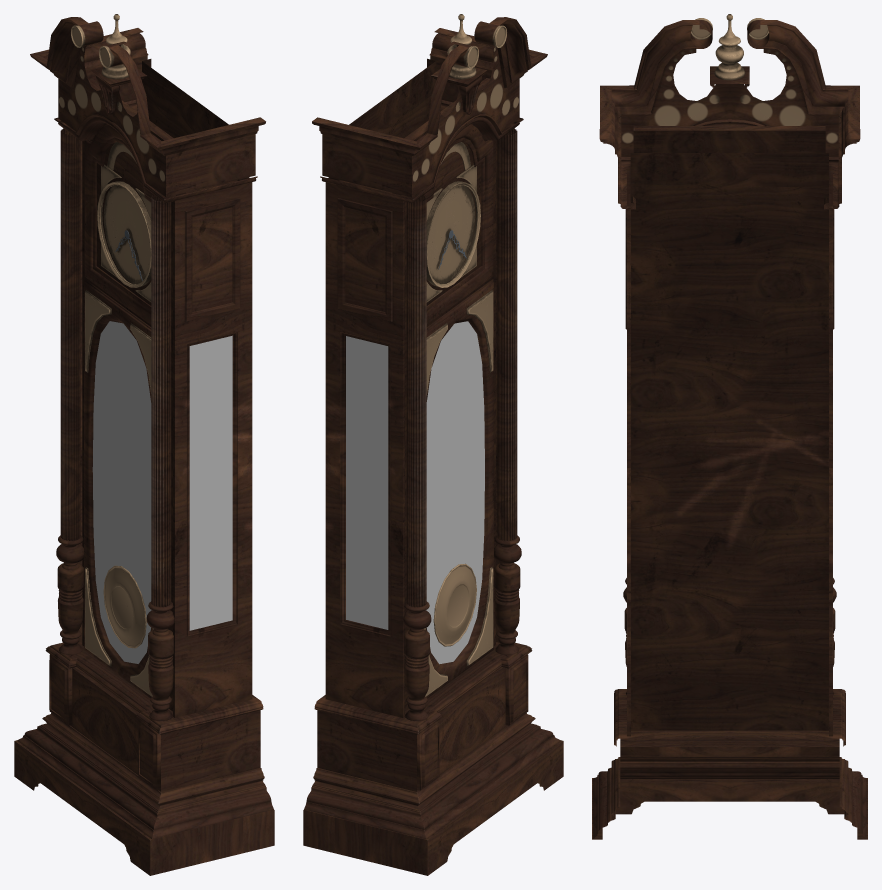
The model's file is SM_GrandpaClock.fbx.
3 renders of one model, left to right at view 1: azimuth 30°, elevation 25°; view 2: azimuth 150°, elevation 25°; view 3: azimuth 270°, elevation 25°, orthographic.
Parts seen in each view (by area): view 1: SM_GrandpaClock_LOD0; view 2: SM_GrandpaClock_LOD0; view 3: SM_GrandpaClock_LOD0.
Part boxes in pixels (x1,y1,x2,y2): SM_GrandpaClock_LOD0: (14,14,274,875); SM_GrandpaClock_LOD0: (303,14,563,875); SM_GrandpaClock_LOD0: (592,14,867,839).
Size of the model in its own units: 58.76 by 111 by 363.
Materials: 2 (1 with a texture image).
